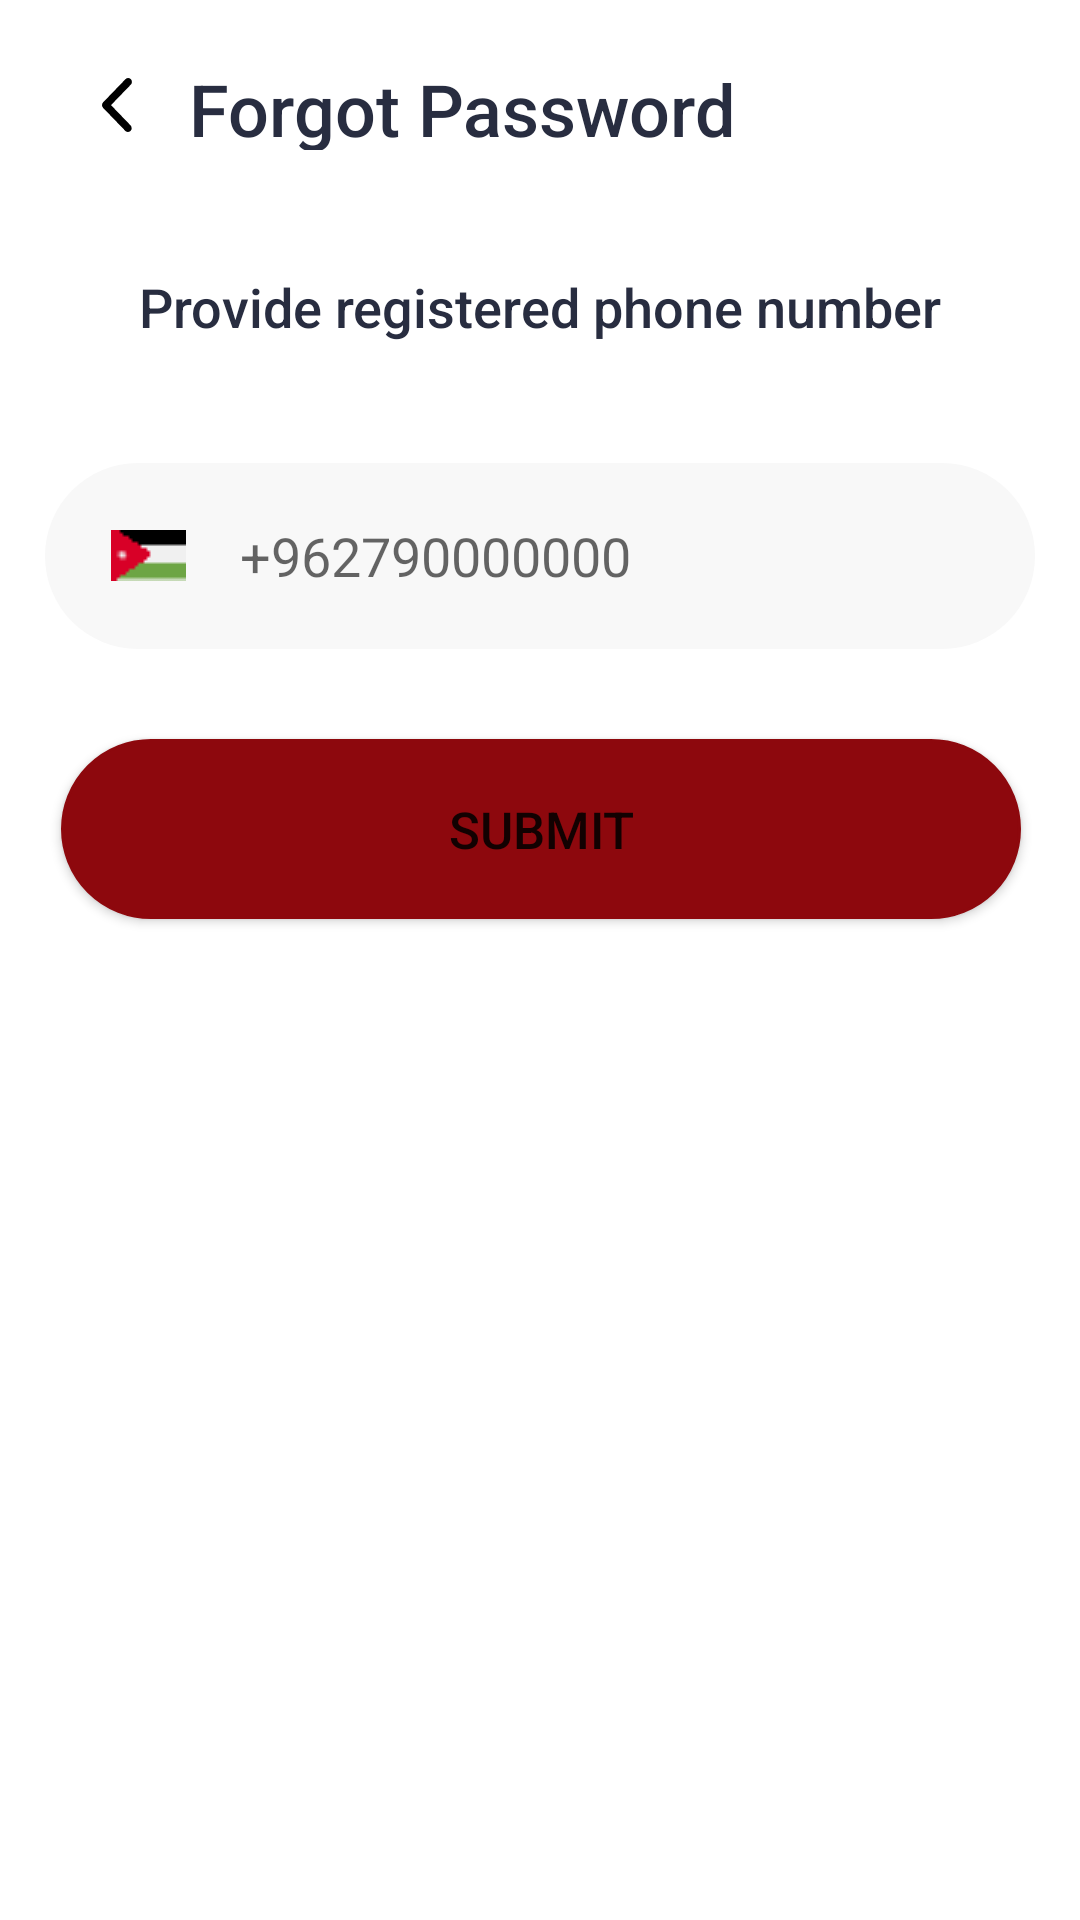

Icon click points for this 1080w x 1920h phone screenshot, format [x,y]:
arrowback: [117,105]
